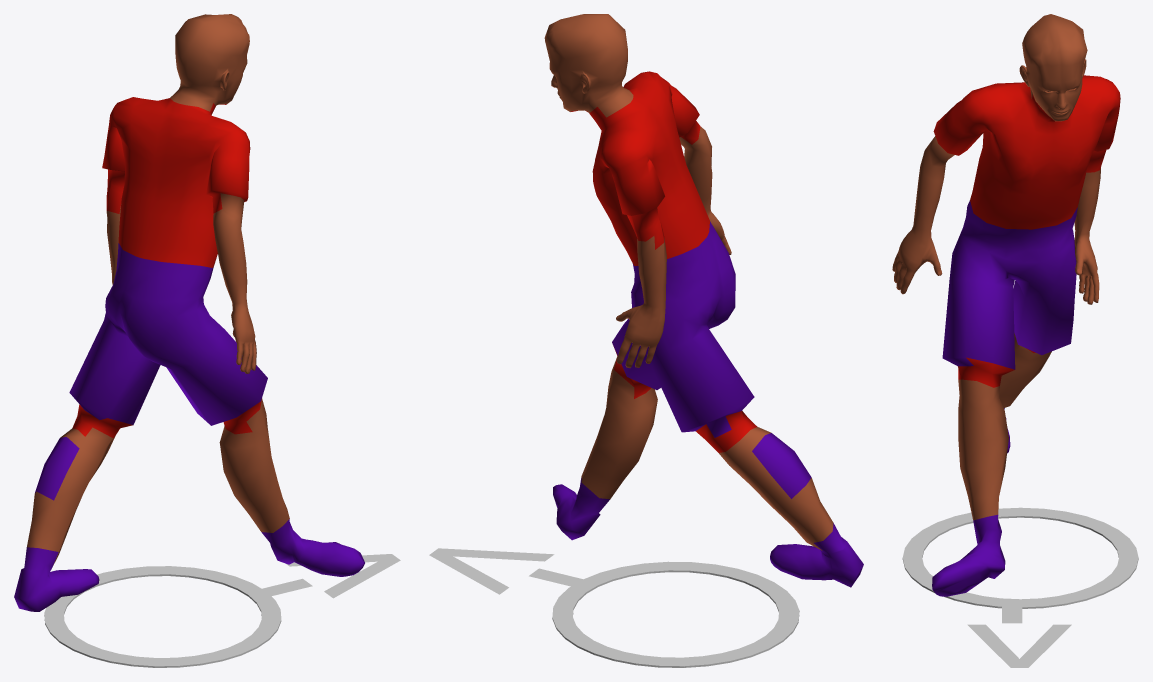
File: player_000027.obj
3 views of the same model, side by side, from view 1: azimuth 30°, elevation 25°; view 2: azimuth 150°, elevation 25°; view 3: azimuth 270°, elevation 25° (orthographic). The views are drawn at different scales.
Visible parts, largest first — view 1: soccerplayer.002_mesh.003, Circle, Text.001_Mesh.001; view 2: soccerplayer.002_mesh.003, Circle, Text.001_Mesh.001; view 3: soccerplayer.002_mesh.003, Circle, Text.001_Mesh.001.
Boxes of the visible parts, box(x1,y1,x2,y2) form: soccerplayer.002_mesh.003: box(14, 14, 364, 611); Circle: box(44, 566, 281, 667); Text.001_Mesh.001: box(257, 554, 400, 598); soccerplayer.002_mesh.003: box(544, 14, 863, 587); Circle: box(552, 561, 799, 667); Text.001_Mesh.001: box(429, 548, 586, 594); soccerplayer.002_mesh.003: box(892, 14, 1120, 596); Circle: box(902, 507, 1138, 608); Text.001_Mesh.001: box(967, 601, 1071, 667).
Bounding box in the file's own units: 2.08 × 2.9 × 1.13.
